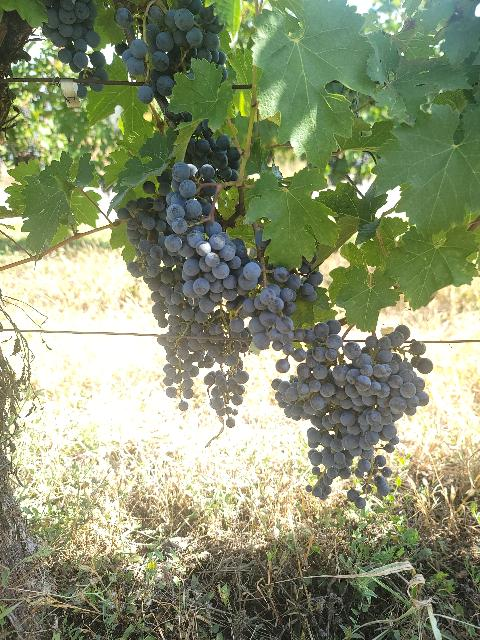grapes: (162, 162, 262, 314), (122, 0, 226, 126), (332, 325, 432, 415), (272, 319, 342, 419), (244, 266, 322, 350), (41, 0, 109, 92), (119, 181, 175, 291), (205, 315, 250, 432), (158, 291, 205, 399), (308, 410, 351, 500)
